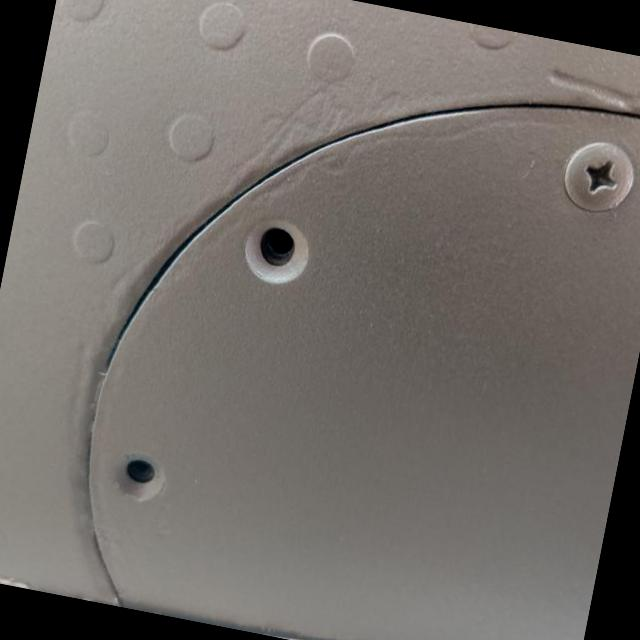Missing Fastener: (239, 217, 314, 292), (108, 449, 168, 506)
